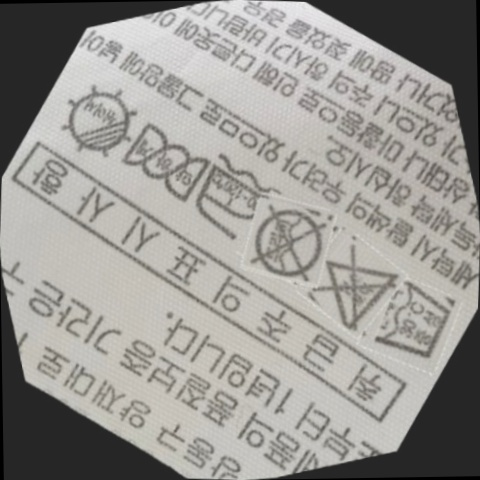DN_dry_clean: (244, 196, 337, 290)
dry_flat_in_shade: (58, 77, 149, 167)
hand_wash: (369, 271, 466, 376)
iron_low: (183, 152, 278, 250)
non_chlorine_bleach: (312, 237, 409, 333)
wring: (120, 106, 222, 212)
